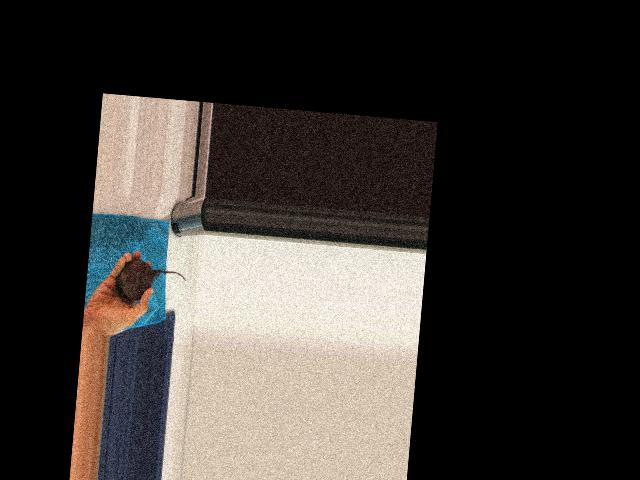beet: (113, 256, 187, 304)
